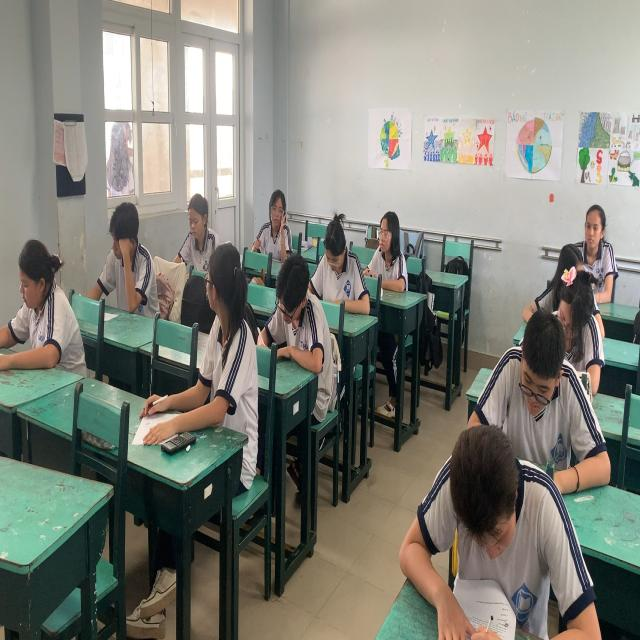cheating: (196, 237, 270, 447)
not_cheating: (418, 437, 563, 627), (494, 309, 585, 499), (0, 230, 83, 378), (544, 237, 599, 388), (95, 199, 161, 312), (262, 251, 322, 357), (311, 208, 364, 306), (173, 188, 223, 264), (583, 199, 616, 312), (368, 206, 408, 296), (256, 171, 293, 257)
